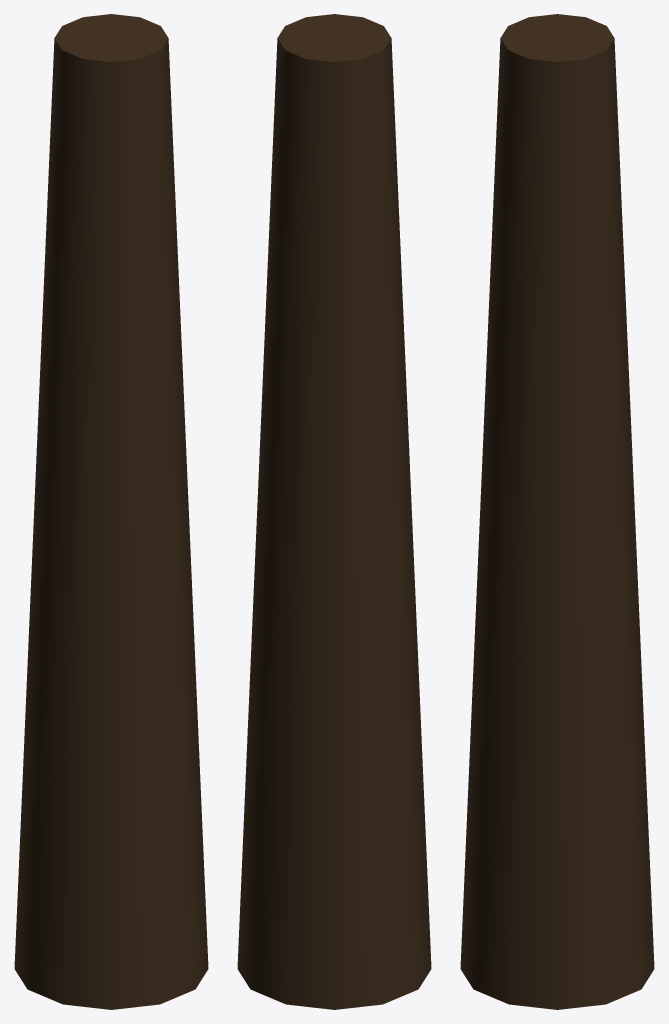
Rendered from sea-root-sw.glb.
3 views of the same model, side by side, from view 1: azimuth 30°, elevation 25°; view 2: azimuth 150°, elevation 25°; view 3: azimuth 270°, elevation 25° (orthographic).
Parts seen in each view (by area): view 1: Sea Root SW; view 2: Sea Root SW; view 3: Sea Root SW.
Part boxes in pixels (<box>): Sea Root SW: <box>14,14,208,1009</box>; Sea Root SW: <box>237,14,431,1009</box>; Sea Root SW: <box>460,14,654,1009</box>.
Bounding box in the file's own units: 9.36 × 49.58 × 9.36.
